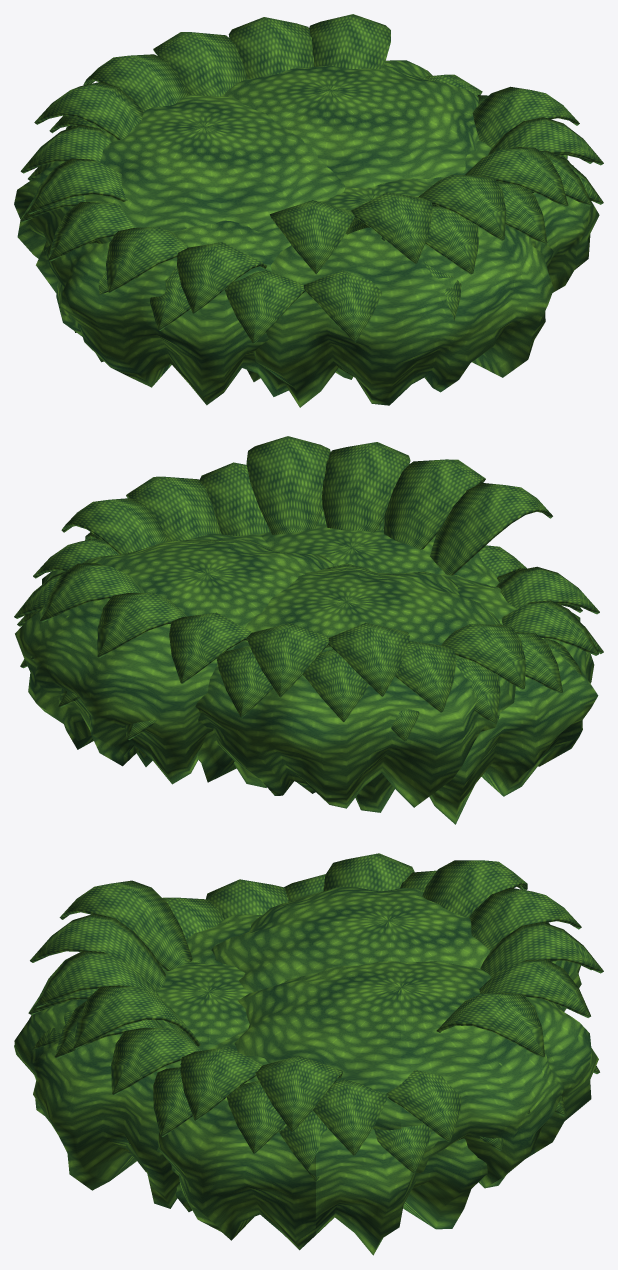
File: fern-bush.glb
3 renders of one model, top to bottom at view 1: azimuth 30°, elevation 25°; view 2: azimuth 150°, elevation 25°; view 3: azimuth 270°, elevation 25°, orthographic. The views are drawn at different scales.
Visible parts, largest first — view 1: fern-bush_leaf; view 2: fern-bush_leaf; view 3: fern-bush_leaf.
Part boxes in pixels (<box>): fern-bush_leaf: <box>14,14,603,407</box>; fern-bush_leaf: <box>14,436,603,824</box>; fern-bush_leaf: <box>14,853,603,1255</box>.
Bounding box in the file's own units: 1.87 × 0.7135 × 1.76.
Materials: 1 (1 with a texture image).
